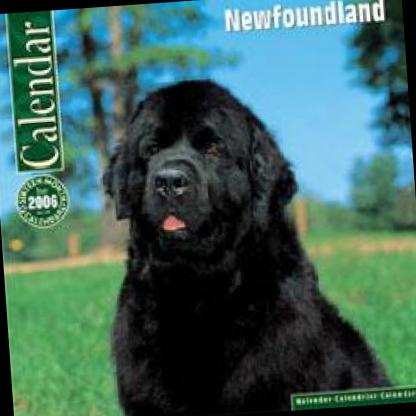Newfoundland: (81, 59, 388, 416)
